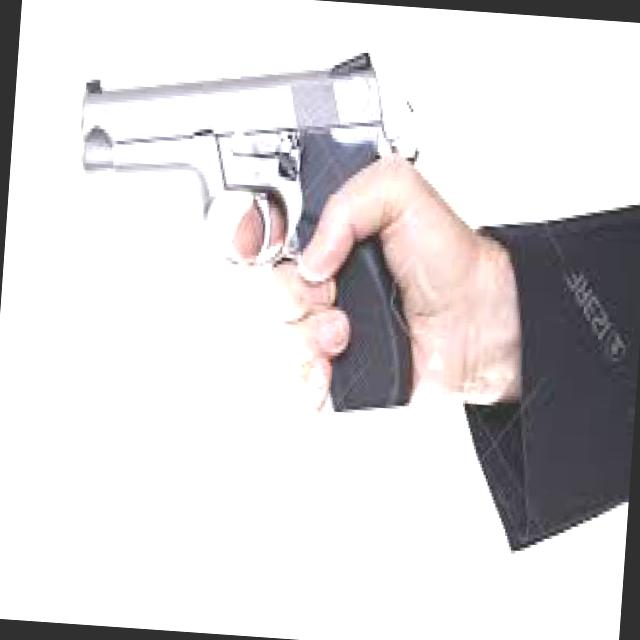handgun: (42, 28, 440, 430)
